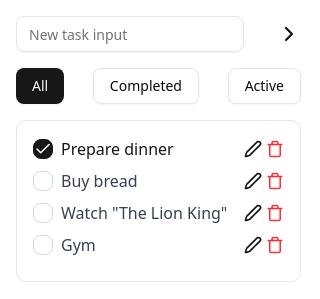
Scenario: MainTemplate › should render only completed tasks when "Completed" button is clicked
This screenshot has width=320, height=299.
Click the button "Completed".
click(146, 86)  # box left=93, top=68, right=199, bottom=104
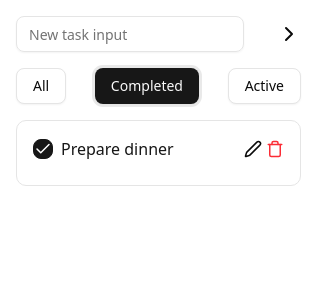
Expected: the text "Buy bread" is gone
Expected: the text "Watch \"The Lion King\"" is gone
Expected: the text "Gym" is gone
